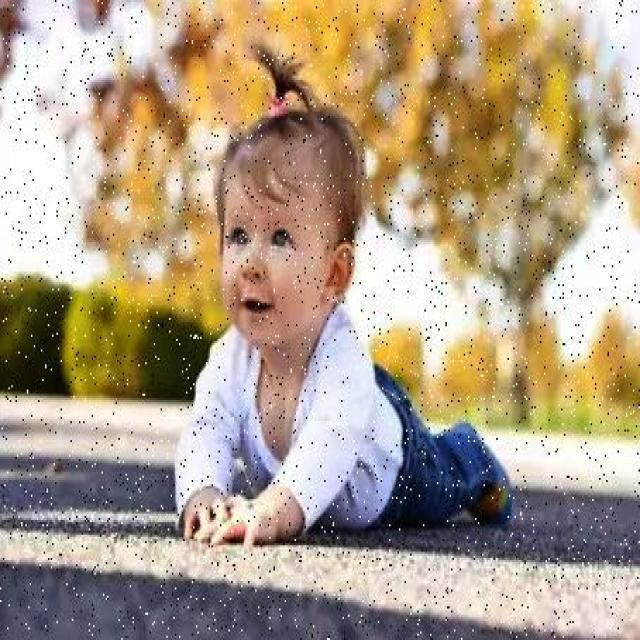fall: (184, 122, 524, 534)
